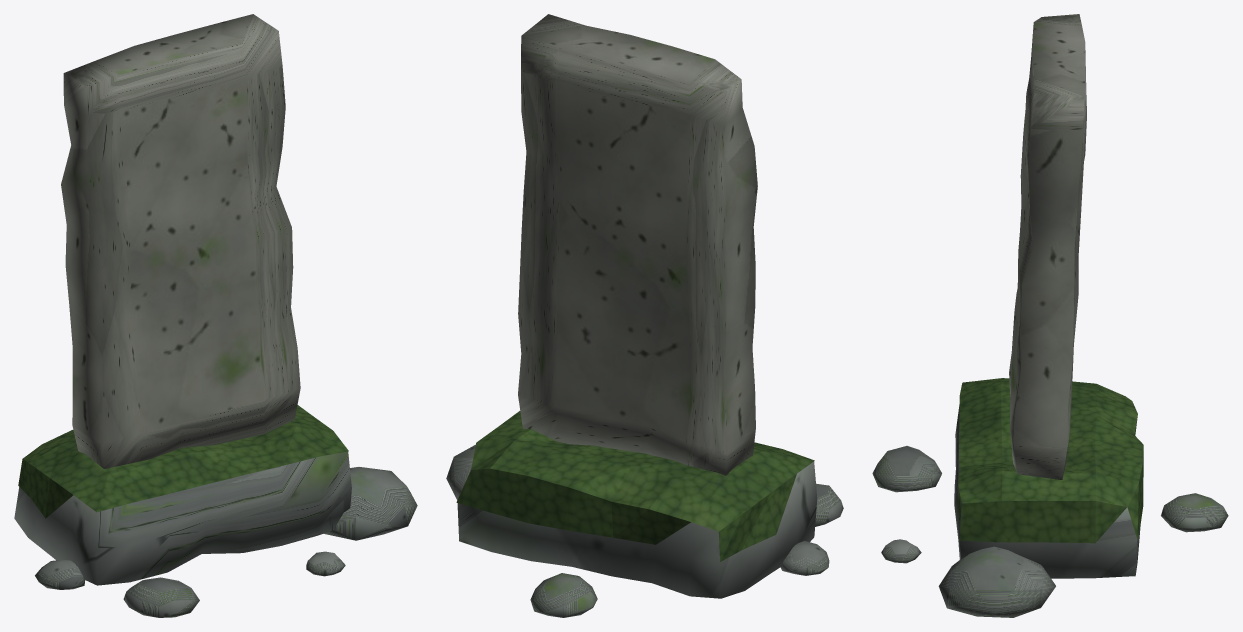
The model's file is ancient_stone_signpost.glb.
3 renders of one model, left to right at view 1: azimuth 30°, elevation 25°; view 2: azimuth 150°, elevation 25°; view 3: azimuth 270°, elevation 25°, orthographic. The views are drawn at different scales.
Parts seen in each view (by area): view 1: ancient_stone_signpost__stone_pale, ancient_stone_signpost__stone_block, ancient_stone_signpost__moss; view 2: ancient_stone_signpost__stone_pale, ancient_stone_signpost__moss, ancient_stone_signpost__stone_block; view 3: ancient_stone_signpost__stone_pale, ancient_stone_signpost__moss, ancient_stone_signpost__stone_block.
Part boxes in pixels (<box>): ancient_stone_signpost__stone_pale: <box>61,14,300,468</box>; ancient_stone_signpost__stone_block: <box>14,451,417,617</box>; ancient_stone_signpost__moss: <box>18,405,348,518</box>; ancient_stone_signpost__stone_pale: <box>518,14,757,475</box>; ancient_stone_signpost__moss: <box>456,411,814,561</box>; ancient_stone_signpost__stone_block: <box>446,445,843,617</box>; ancient_stone_signpost__stone_pale: <box>1009,14,1086,479</box>; ancient_stone_signpost__moss: <box>958,378,1143,543</box>; ancient_stone_signpost__stone_block: <box>872,404,1228,617</box>.
Bounding box in the file's own units: 1.11 × 1.4 × 0.9531.
4 materials, 3 textured.
